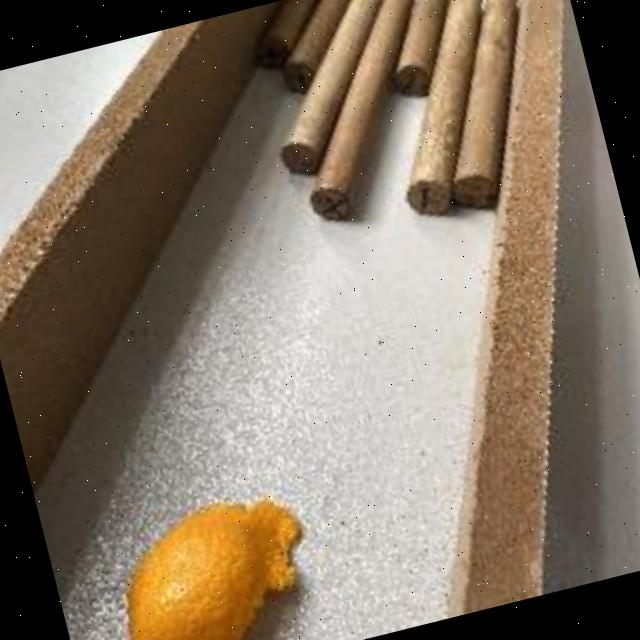orange-peel: (96, 478, 332, 640)
